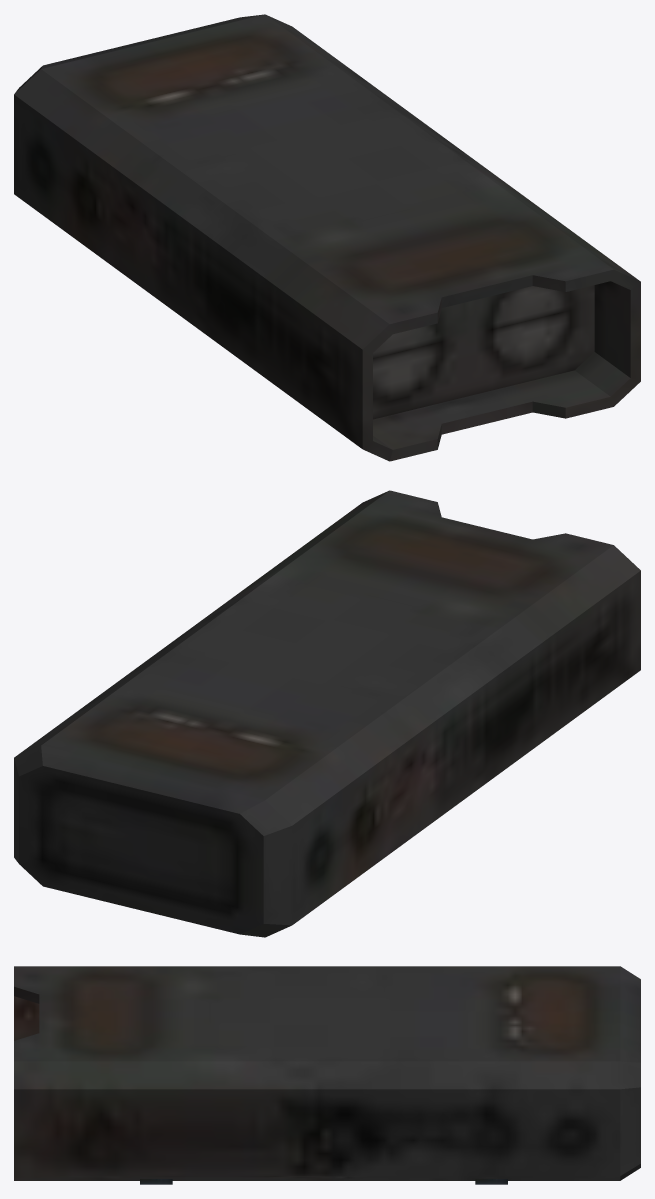
Rendered from ScifiMechSRMRackX2.glb.
The picture shows the model from 3 angles, top to bottom: view 1: azimuth 30°, elevation 25°; view 2: azimuth 150°, elevation 25°; view 3: azimuth 270°, elevation 25°; orthographic projection. The views are drawn at different scales.
Visible parts, largest first — view 1: ScifiMechSRMRackX2; view 2: ScifiMechSRMRackX2; view 3: ScifiMechSRMRackX2.
Boxes of the visible parts, x1,y1,x2,y2 form: ScifiMechSRMRackX2: (14,14,640,461); ScifiMechSRMRackX2: (14,490,640,937); ScifiMechSRMRackX2: (14,966,640,1184).
Size of the model in its own units: 0.00627 by 0.00316 by 0.0141.
Materials: 1 (1 with a texture image).
